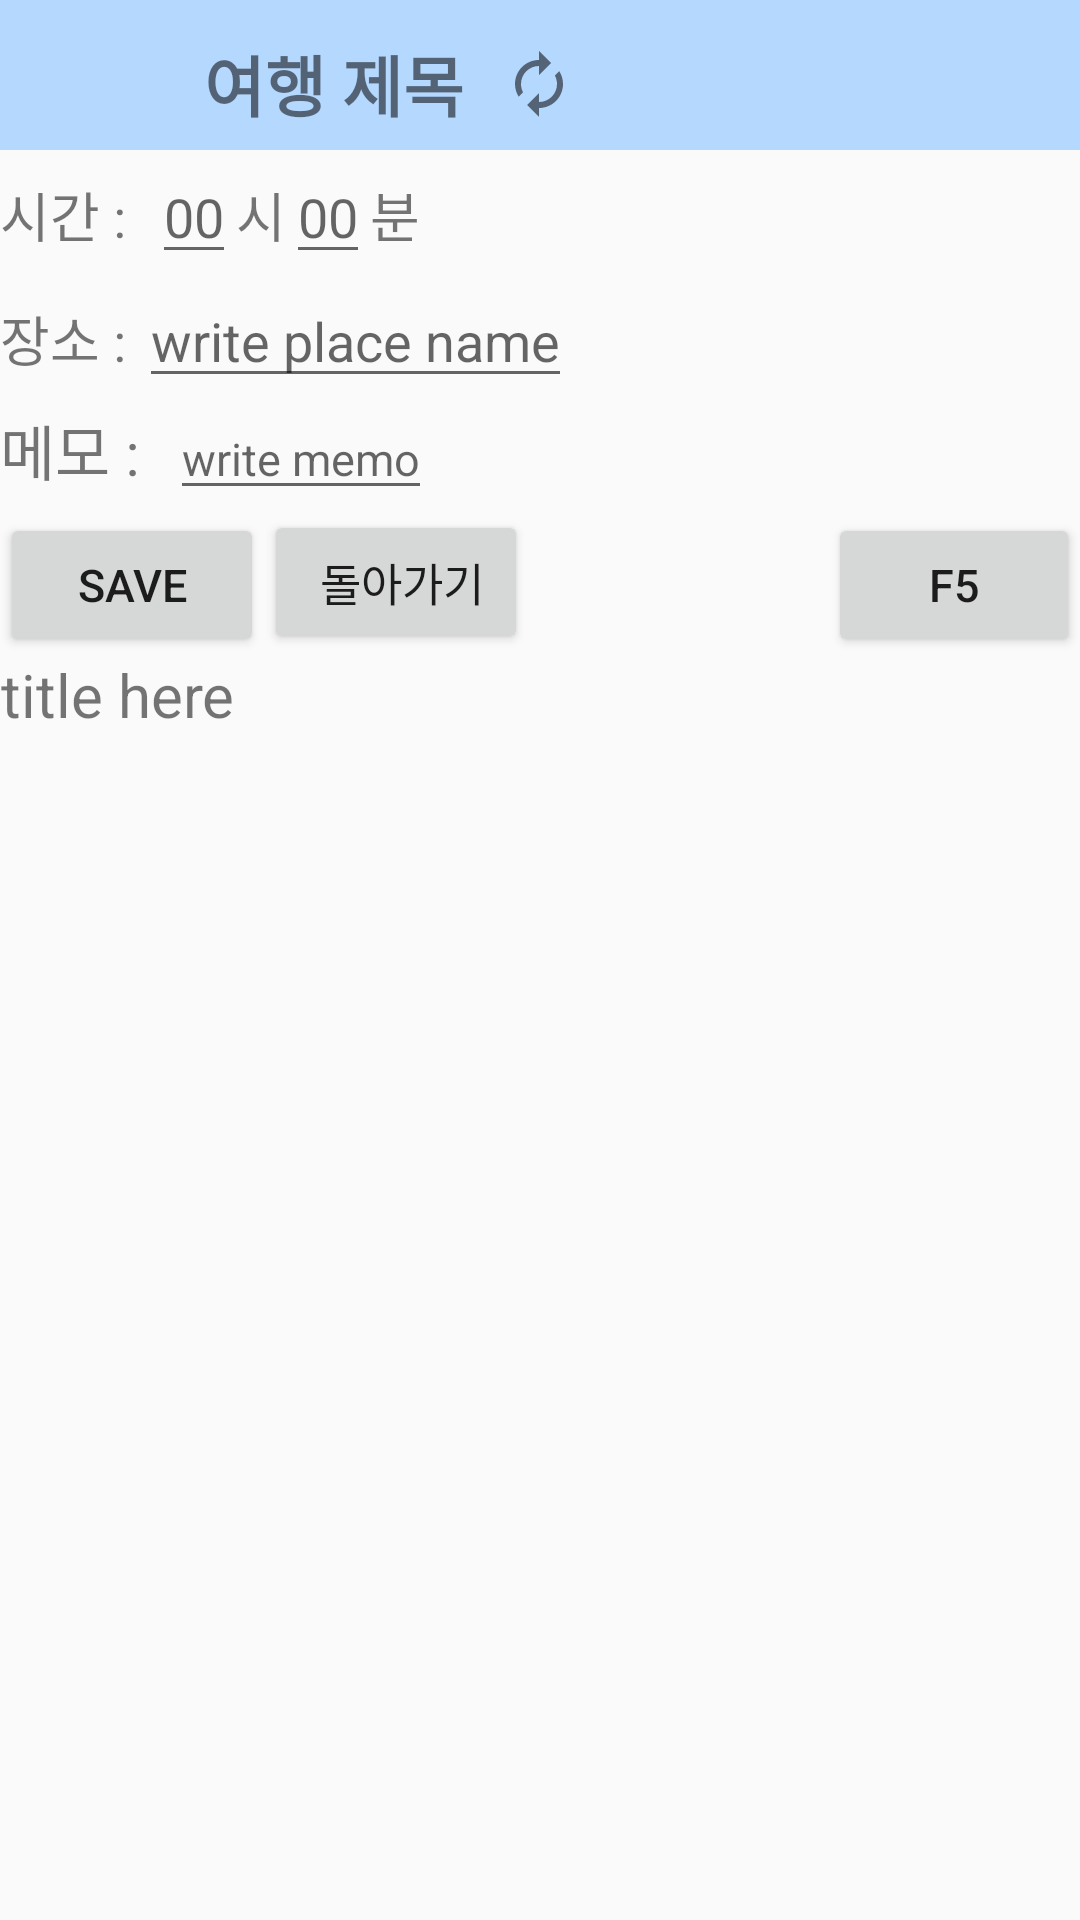

Icon bounding boxes for this 1080px×1920px phone screenshot, format [x1=x1, y1=y1, x2=x2, y2=y2]:
refreseh: [x1=515, y1=51, x2=563, y2=117]
